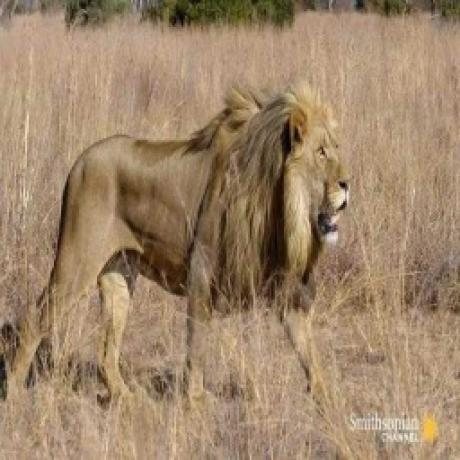Lion: (0, 76, 352, 394)
